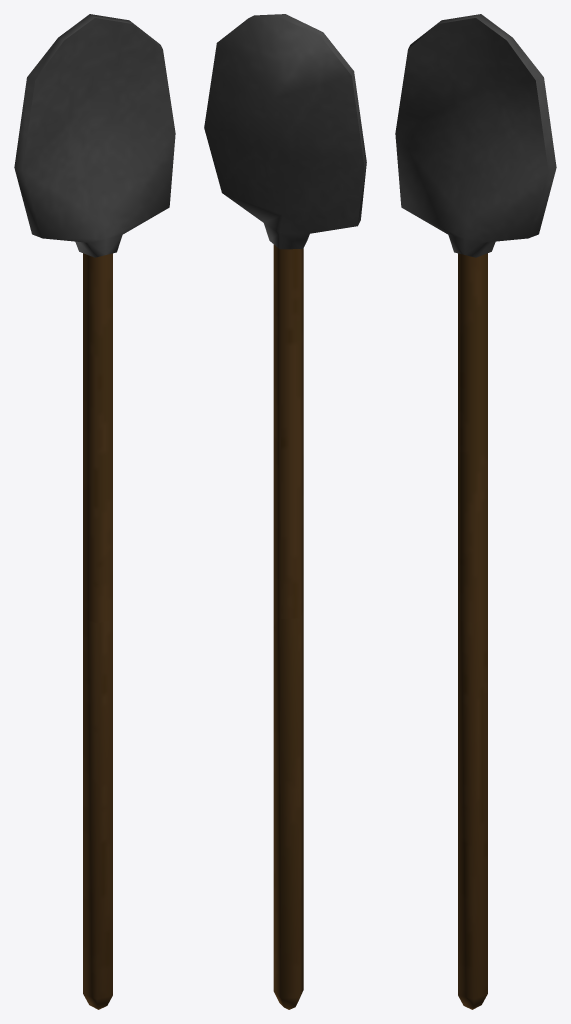
The model's file is Shovel1.fbx.
3 renders of one model, left to right at view 1: azimuth 30°, elevation 25°; view 2: azimuth 150°, elevation 25°; view 3: azimuth 330°, elevation 25°, orthographic.
Parts seen in each view (by area): view 1: Shovel1; view 2: Shovel1; view 3: Shovel1.
Boxes of the visible parts, x1,y1,x2,y2 form: Shovel1: (14,14,175,1009); Shovel1: (204,14,366,1009); Shovel1: (395,14,556,1009).
Bounding box in the file's own units: 22.8 × 136 × 5.62.
